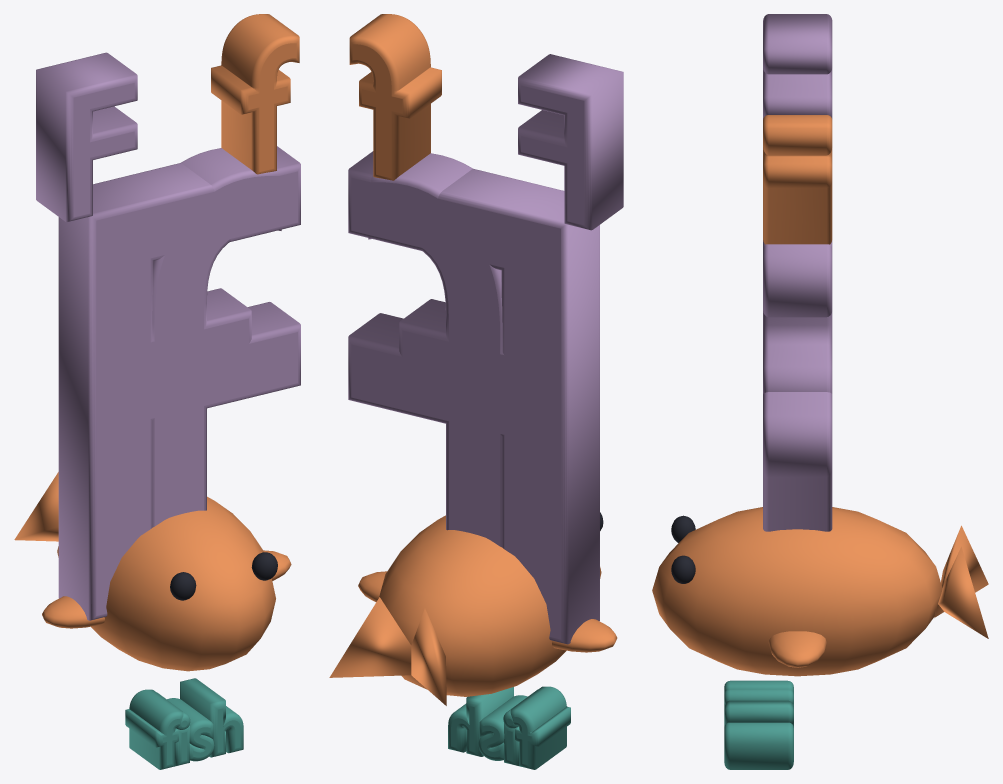
File: letter-f.glb
3 views of the same model, side by side, from view 1: azimuth 30°, elevation 25°; view 2: azimuth 150°, elevation 25°; view 3: azimuth 270°, elevation 25° (orthographic). The views are drawn at different scales.
Visible parts, largest first — view 1: letter solid, letter solid.001, round animal body, uppercase solid, lowercase solid, example word, tail fin, side fin, round eye, round eye.001; view 2: letter solid, letter solid.001, round animal body, uppercase solid, lowercase solid, example word, tail fin.001, tail fin, side fin, side fin.001; view 3: round animal body, letter solid, letter solid.001, lowercase solid, uppercase solid, example word, tail fin.001, side fin.001, tail fin.
Boxes of the visible parts, <box> form: letter solid: <box>58,146,300,620</box>; letter solid.001: <box>120,148,281,527</box>; round animal body: <box>57,496,275,671</box>; uppercase solid: <box>36,52,137,221</box>; lowercase solid: <box>211,14,299,174</box>; example word: <box>125,678,243,769</box>; tail fin: <box>14,472,58,541</box>; side fin: <box>42,596,104,628</box>; round eye: <box>170,572,196,600</box>; round eye.001: <box>251,552,277,580</box>; letter solid: <box>348,151,599,644</box>; letter solid.001: <box>368,153,536,547</box>; round animal body: <box>379,515,601,696</box>; uppercase solid: <box>518,54,623,230</box>; lowercase solid: <box>349,14,441,180</box>; example word: <box>448,686,570,769</box>; tail fin.001: <box>329,597,411,677</box>; tail fin: <box>411,608,446,705</box>; side fin: <box>552,619,617,652</box>; side fin.001: <box>358,571,386,601</box>; round animal body: <box>652,507,942,676</box>; letter solid: <box>763,244,832,477</box>; letter solid.001: <box>763,240,832,531</box>; lowercase solid: <box>763,115,832,244</box>; uppercase solid: <box>763,14,832,119</box>; example word: <box>724,680,793,769</box>; tail fin.001: <box>938,546,988,638</box>; side fin.001: <box>768,631,826,667</box>; tail fin: <box>934,525,988,617</box>.
Bounding box in the file's own units: 0.7308 × 1.95 × 0.872.
